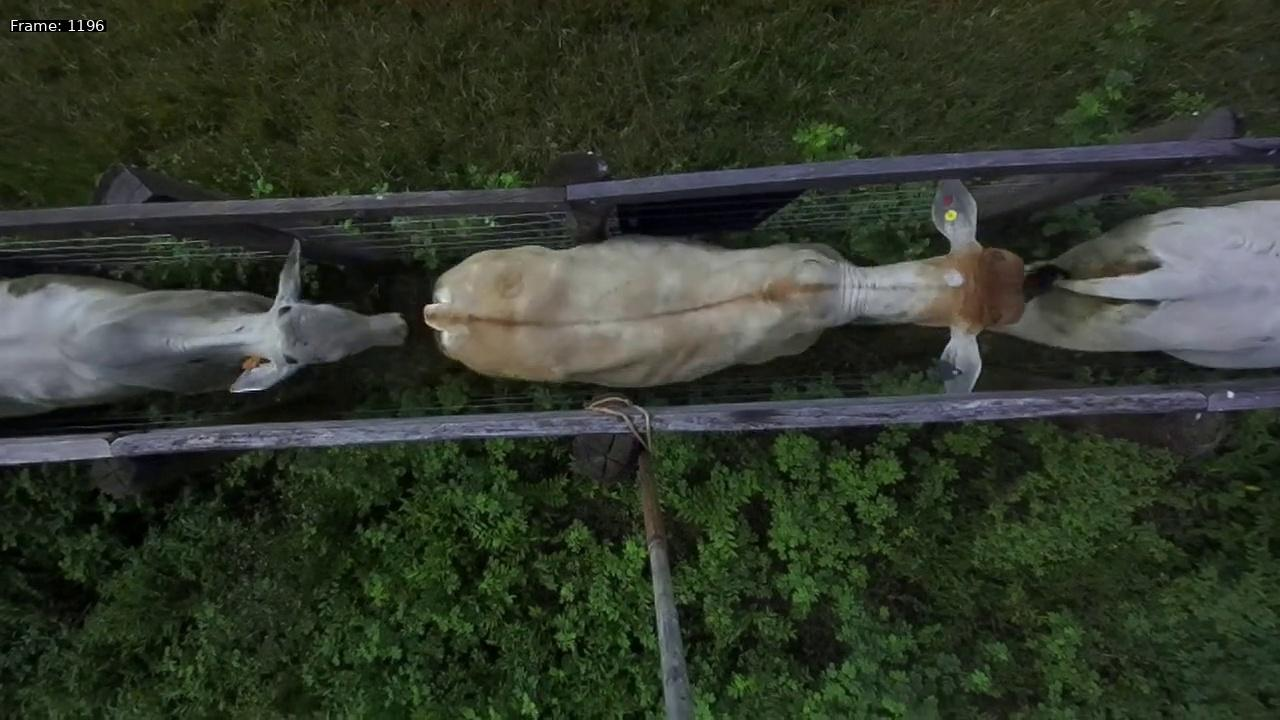cattle: (404, 167, 1041, 408)
